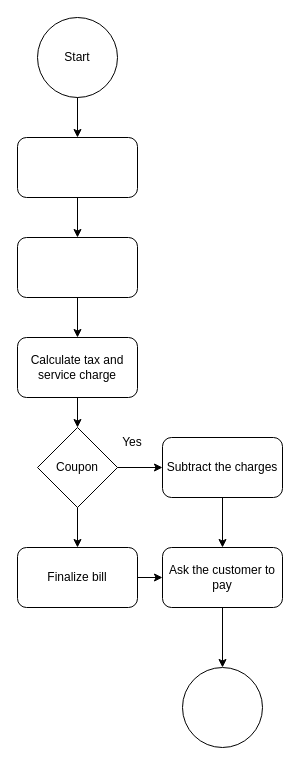
Some shapes in this 300 by 765 pixel diagram are drawn without their labels. Each missing label, with the box of its shape:
Add menu items to bill: (16, 236, 138, 298)
End: (182, 666, 262, 748)
Select items from the final order list: (16, 136, 138, 198)
